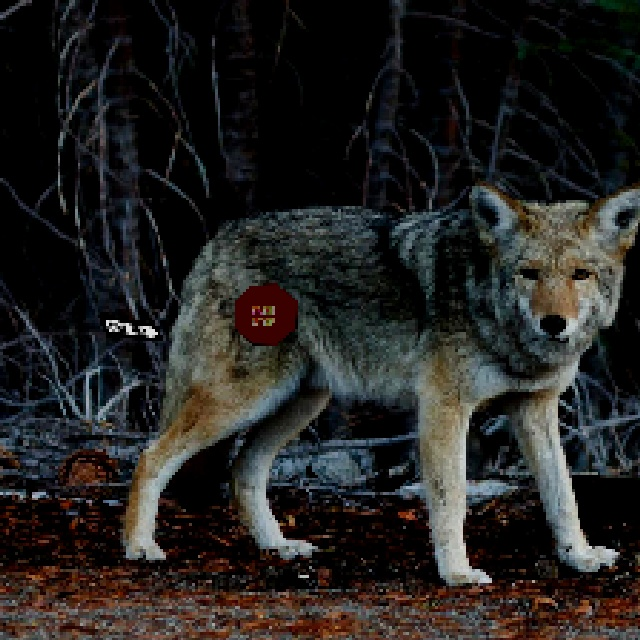FAKE_STOP: (231, 281, 296, 344)
ONE_WAY_ right: (96, 311, 161, 340)
